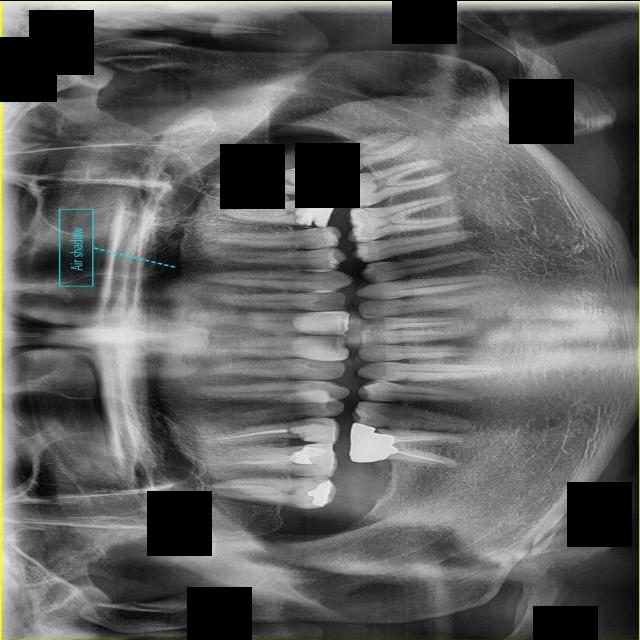74: (217, 427, 290, 439), (397, 449, 445, 464), (236, 454, 295, 464), (393, 435, 453, 442)
NucleOSS Implant: (346, 422, 402, 467), (293, 197, 335, 228), (307, 479, 339, 509), (289, 443, 325, 468)
Sterngold Implant: (294, 269, 317, 275), (358, 206, 377, 213), (361, 235, 379, 241), (358, 202, 371, 206)
Straumann Implant: (293, 310, 351, 335), (295, 335, 348, 361), (307, 439, 338, 477), (288, 421, 339, 443)
